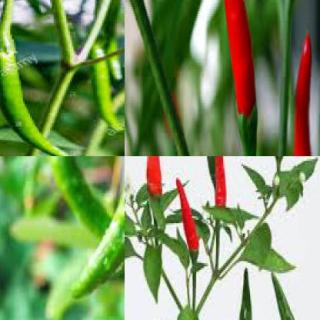green_chilli: (0, 36, 85, 156), (40, 156, 124, 276), (68, 156, 124, 303), (88, 44, 124, 134), (106, 0, 124, 81), (271, 273, 300, 319), (237, 266, 253, 319), (194, 157, 216, 186)
